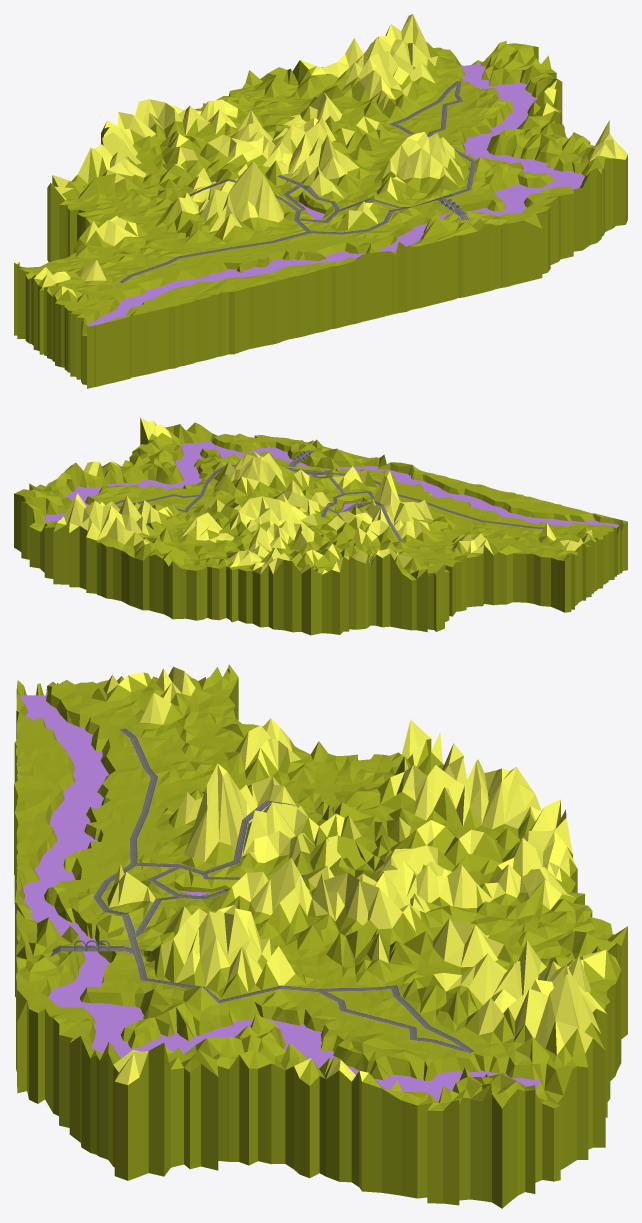
Rendered from Terrain1.glb.
3 views of the same model, one above another, from view 1: azimuth 30°, elevation 25°; view 2: azimuth 150°, elevation 25°; view 3: azimuth 270°, elevation 25° (orthographic). The views are drawn at different scales.
Parts seen in each view (by area): view 1: Land, River, Road; view 2: Land, River, Road; view 3: Land, River, Road.
Boxes of the visible parts, x1,y1,x2,y2 form: Land: (14, 14, 627, 388); River: (86, 63, 584, 325); Road: (119, 81, 475, 283); Land: (14, 417, 627, 635); River: (41, 441, 619, 527); Road: (105, 464, 543, 543); Land: (14, 664, 627, 1208); River: (20, 695, 540, 1101); Road: (93, 728, 474, 1053).
Size of the model in its own units: 108 by 19.93 by 63.64.
5 materials, 1 textured.
